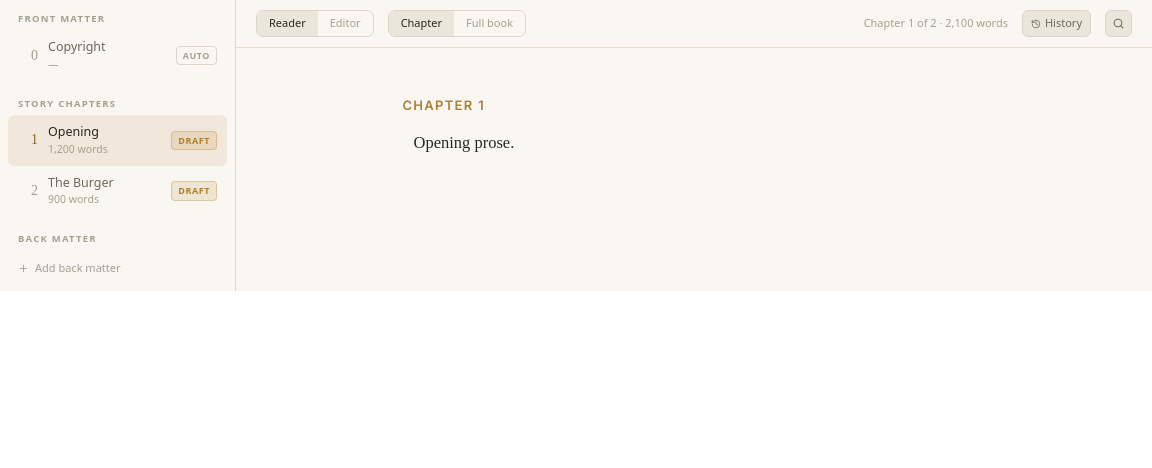
Test case: ManuscriptView › assembles the full book in Full book scope
Expected: the text "Opening prose." is shown, [414,132,514,152]
Click the button "Full book": {"x": 490, "y": 24} [454,11,525,36]
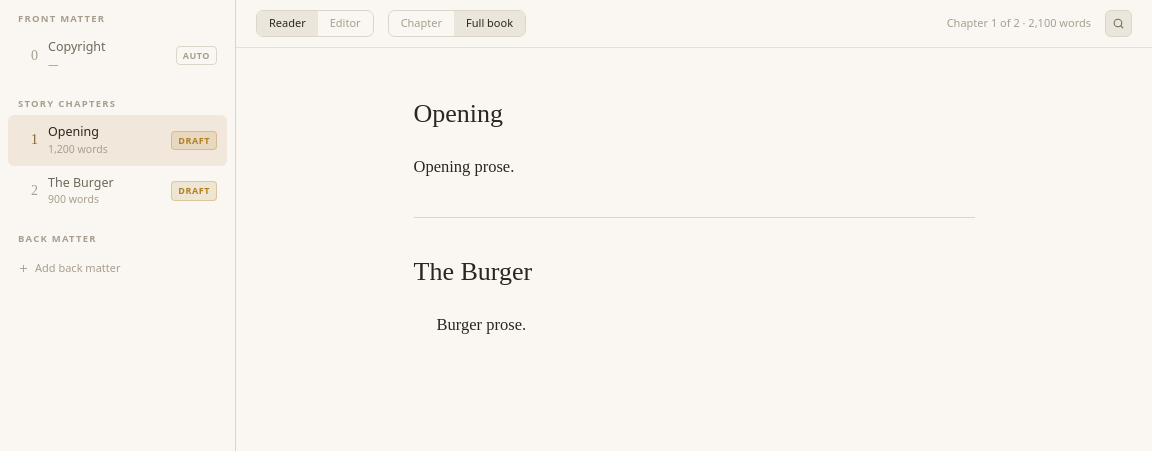
Expected: the text "Opening prose." is shown, [414,157,514,176]
Now the text "Burger prose." is shown, box [437,315,526,334]
